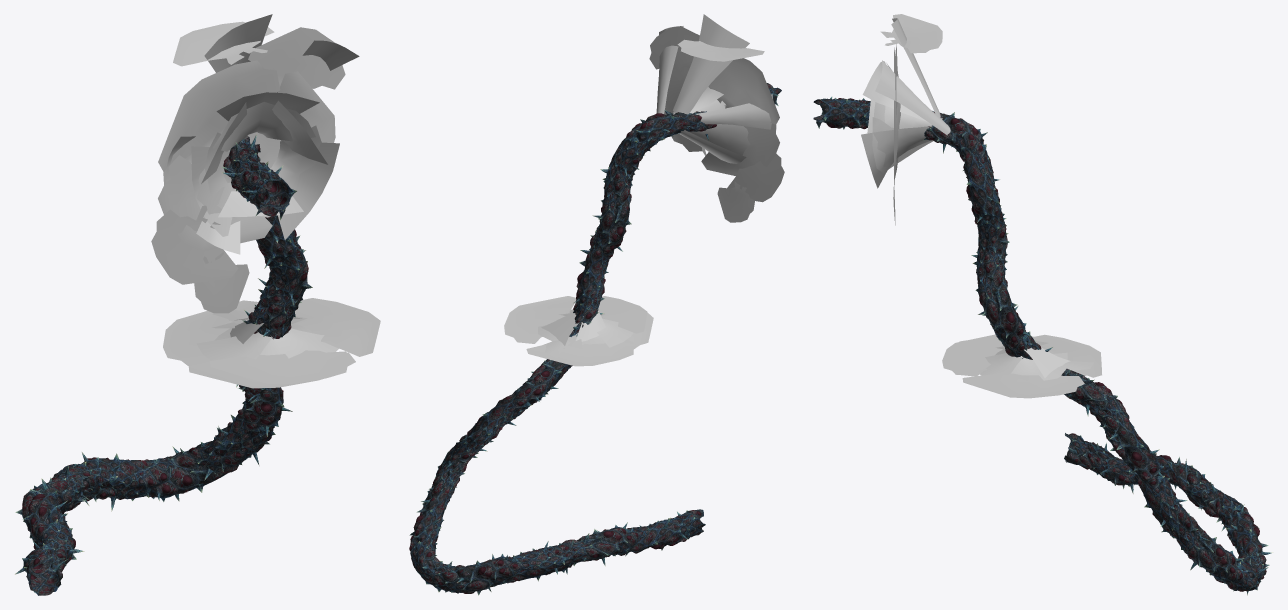
Rendered from backup.fbx.
The picture shows the model from 3 angles, left to right: view 1: azimuth 30°, elevation 25°; view 2: azimuth 150°, elevation 25°; view 3: azimuth 270°, elevation 25°; orthographic projection. The views are drawn at different scales.
Parts seen in each view (by area): view 1: LODGroup_1_MainMesh_1_SubMesh_1, LODGroup_1_MainMesh_2_SubMesh_2, LODGroup_1_MainMesh_2_SubMesh_1; view 2: LODGroup_1_MainMesh_1_SubMesh_1, LODGroup_1_MainMesh_2_SubMesh_1, LODGroup_1_MainMesh_2_SubMesh_2; view 3: LODGroup_1_MainMesh_1_SubMesh_1, LODGroup_1_MainMesh_2_SubMesh_1, LODGroup_1_MainMesh_2_SubMesh_2.
Part boxes in pixels (box(x1,y1,x2,y2)): LODGroup_1_MainMesh_1_SubMesh_1: box(151, 14, 380, 388); LODGroup_1_MainMesh_2_SubMesh_2: box(22, 140, 308, 580); LODGroup_1_MainMesh_2_SubMesh_1: box(15, 134, 312, 595); LODGroup_1_MainMesh_1_SubMesh_1: box(504, 14, 784, 366); LODGroup_1_MainMesh_2_SubMesh_1: box(409, 93, 778, 595); LODGroup_1_MainMesh_2_SubMesh_2: box(415, 83, 781, 593); LODGroup_1_MainMesh_1_SubMesh_1: box(861, 14, 1101, 398); LODGroup_1_MainMesh_2_SubMesh_1: box(813, 96, 1272, 595); LODGroup_1_MainMesh_2_SubMesh_2: box(813, 98, 1269, 591).
Size of the model in its own units: 1342 by 2724 by 2191.
